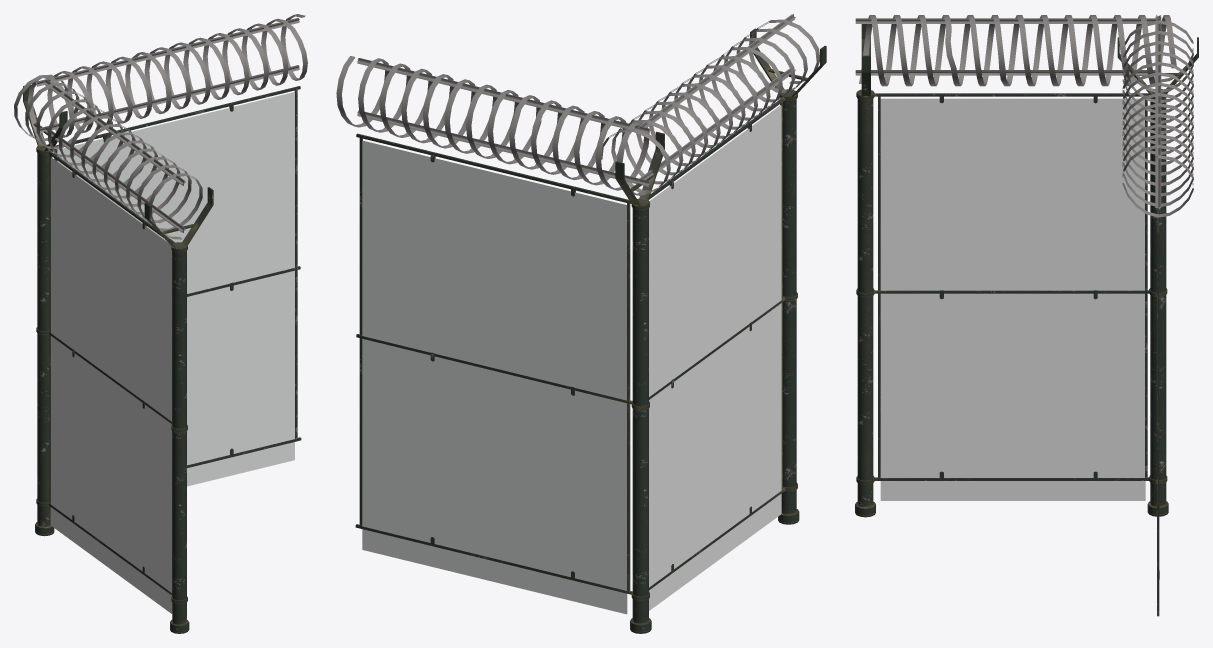
Rendered from SM_Fence_Exterior_Corner_Inner.fbx.
3 renders of one model, left to right at view 1: azimuth 30°, elevation 25°; view 2: azimuth 150°, elevation 25°; view 3: azimuth 270°, elevation 25°, orthographic. The views are drawn at different scales.
Parts seen in each view (by area): view 1: SM_Fence_Exterior_Corner_Inner_LOD0; view 2: SM_Fence_Exterior_Corner_Inner_LOD0; view 3: SM_Fence_Exterior_Corner_Inner_LOD0.
Boxes of the visible parts, left/top/right/bottom form: SM_Fence_Exterior_Corner_Inner_LOD0: left=14, top=14, right=307, bottom=633; SM_Fence_Exterior_Corner_Inner_LOD0: left=336, top=14, right=826, bottom=633; SM_Fence_Exterior_Corner_Inner_LOD0: left=855, top=14, right=1198, bottom=616.
Size of the model in its own units: 279 by 260 by 412.
1 material, 1 textured.
